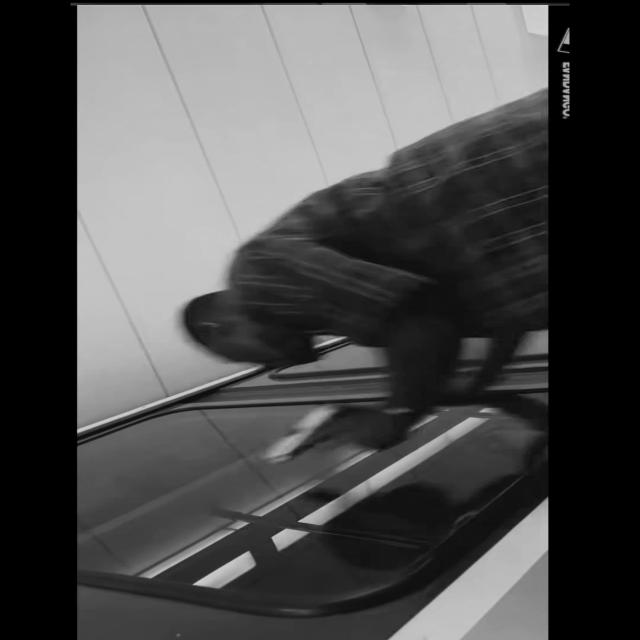weapons: (256, 394, 439, 464)
